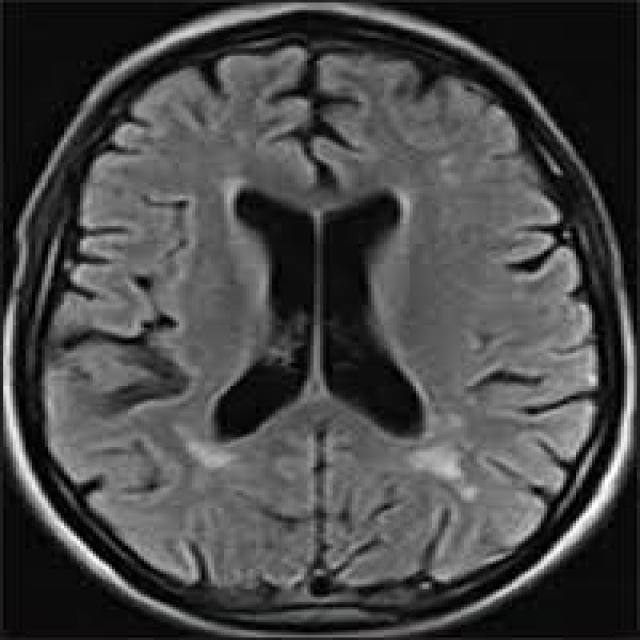No_Tumor: (3, 3, 634, 637)
